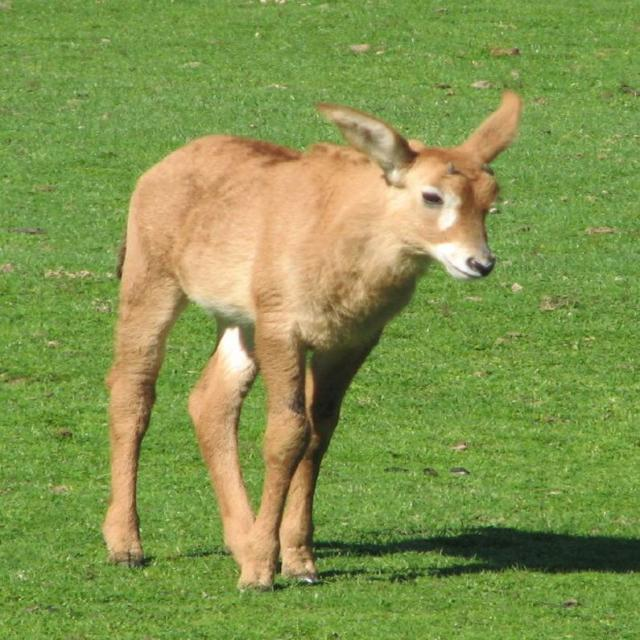Deer: (98, 88, 523, 592)
